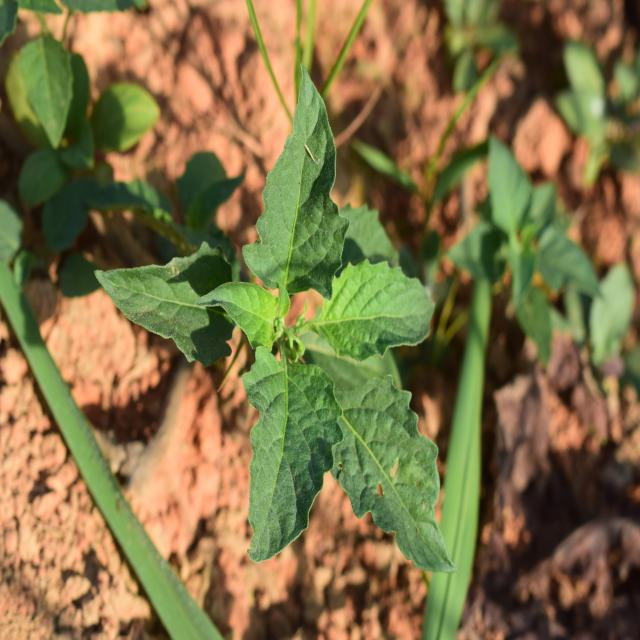Black_nightshade: (126, 90, 459, 564)
